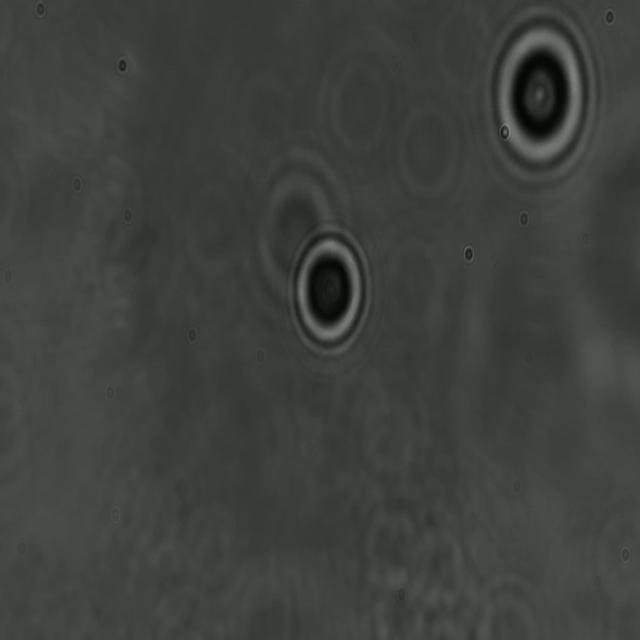DCELL: (283, 212, 376, 368)
LCELL: (481, 1, 601, 192)
